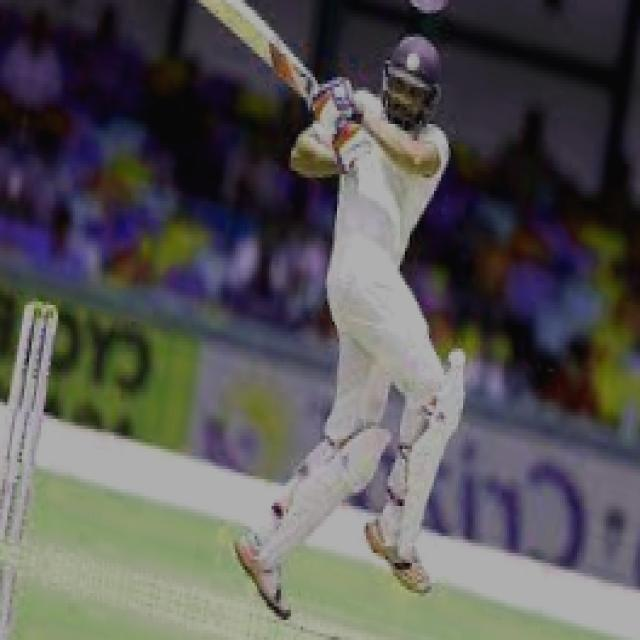toe: (197, 0, 246, 31)
